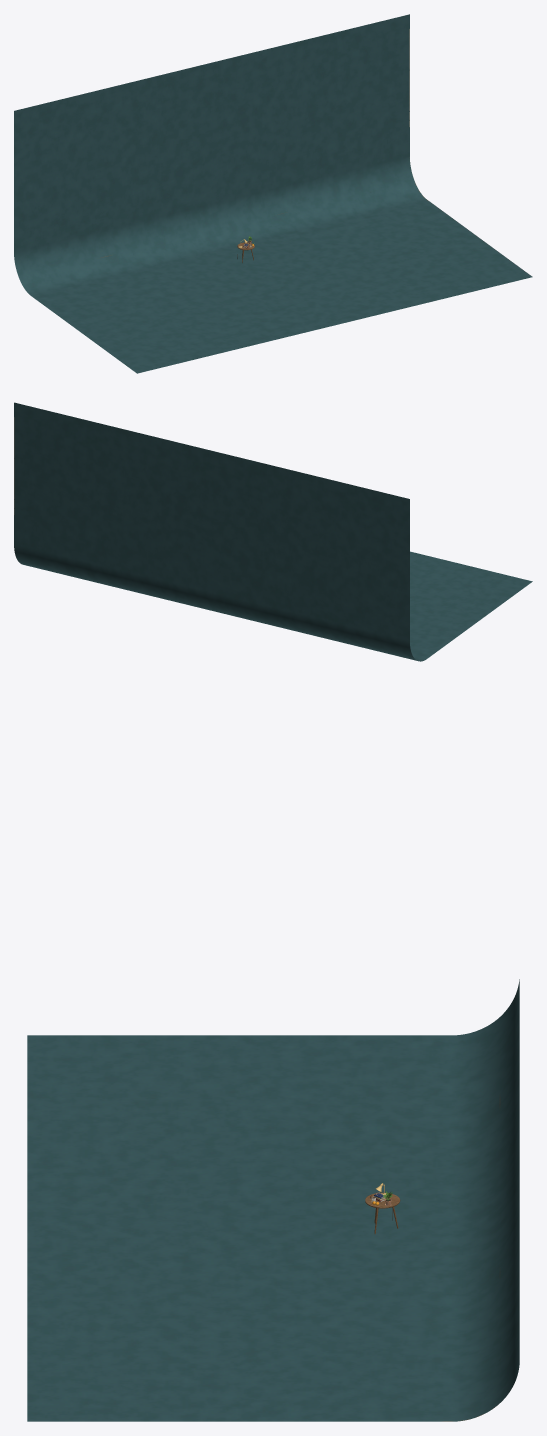
3 views of the same model, one above another, from view 1: azimuth 30°, elevation 25°; view 2: azimuth 150°, elevation 25°; view 3: azimuth 270°, elevation 25° (orthographic). The views are drawn at different scales.
Visible parts, largest first — view 1: s1_v2; view 2: s1_v2; view 3: s1_v2.
Boxes of the visible parts, left/top/right/bottom form: s1_v2: left=14, top=14, right=532, bottom=373; s1_v2: left=14, top=402, right=532, bottom=661; s1_v2: left=27, top=979, right=519, bottom=1421.
Size of the model in its own units: 18 by 7.5 by 9.7.
Materials: 24 (12 with a texture image).
